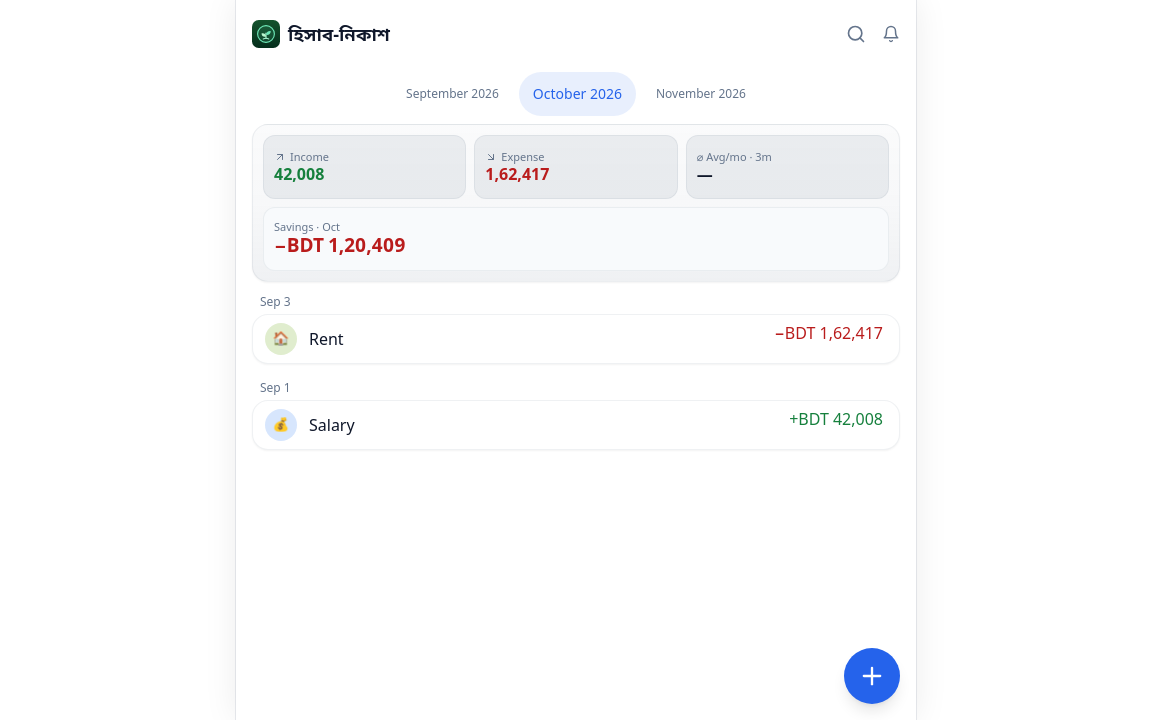
Test case: HomeTab › Income/Expense chip filters the list and Clear resets
The width and height of the screenshot is (1152, 720).
Click the button "Income 42,008" at (365, 167), box [263, 135, 466, 199]
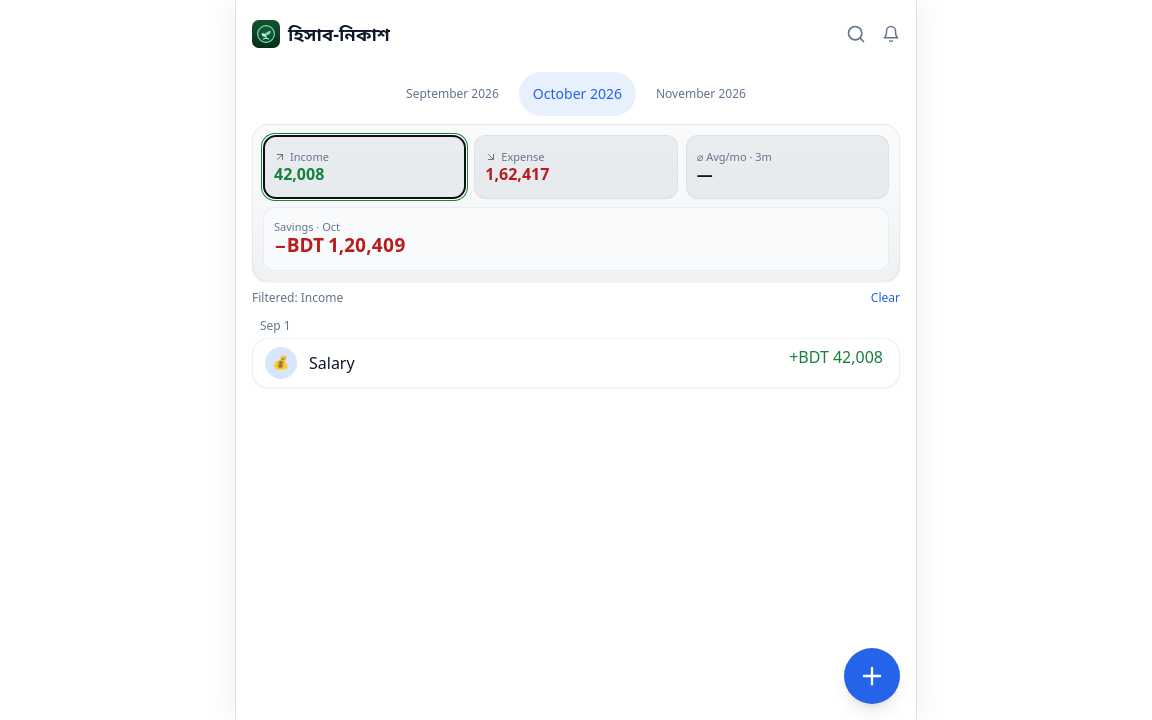
expect the button "💰 Salary +BDT 42,008" is shown: met, box [253, 339, 899, 387]
expect the button "Rent" is gone: met
expect the text "Filtered: Income" is shown: met, box [252, 290, 343, 306]
Click the button "Clear" at (885, 298), box [871, 290, 900, 306]
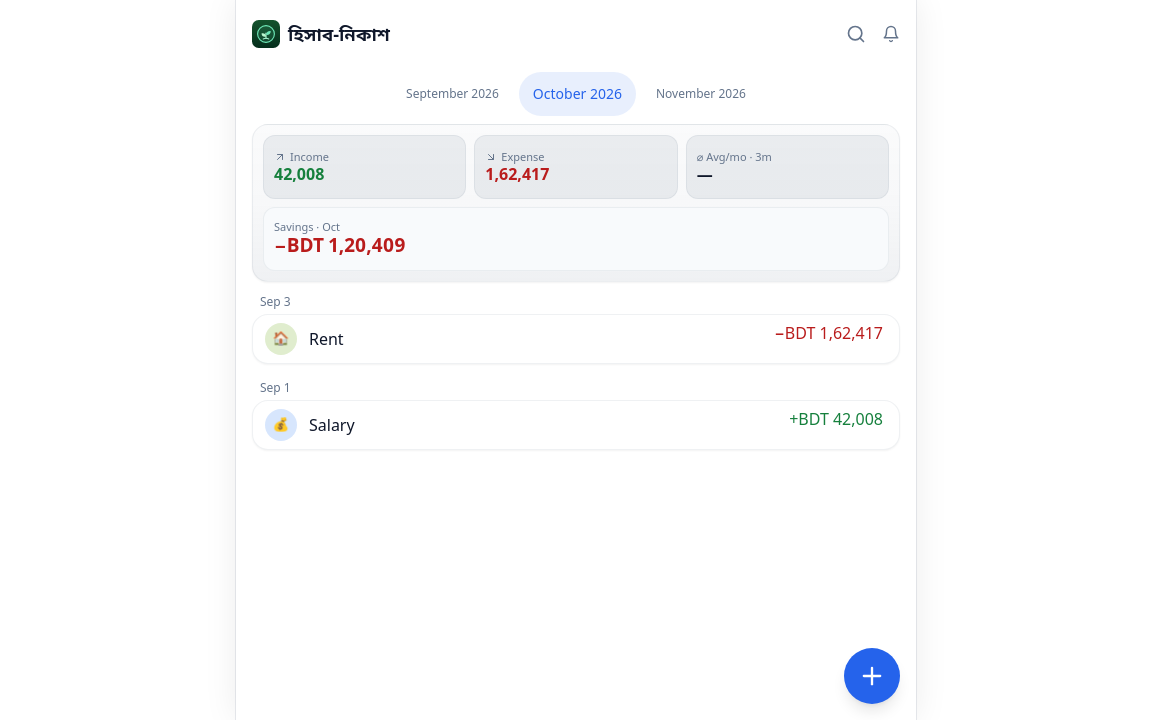
expect the button "🏠 Rent −BDT 1,62,417" is shown: met, box [253, 315, 899, 363]
